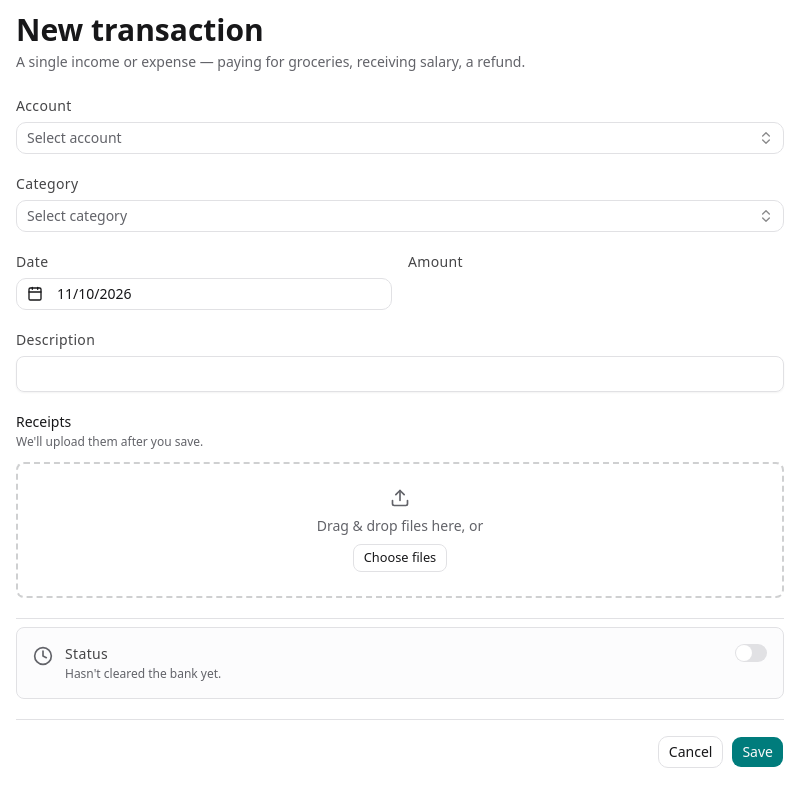
Test case: MovementCreate › Test 5: 422 response → field errors visible in form
The image size is (801, 785).
Expected: the button named "date" is shown, [16, 278, 392, 310]
Click the button "Save" at (758, 752), box [731, 736, 784, 768]
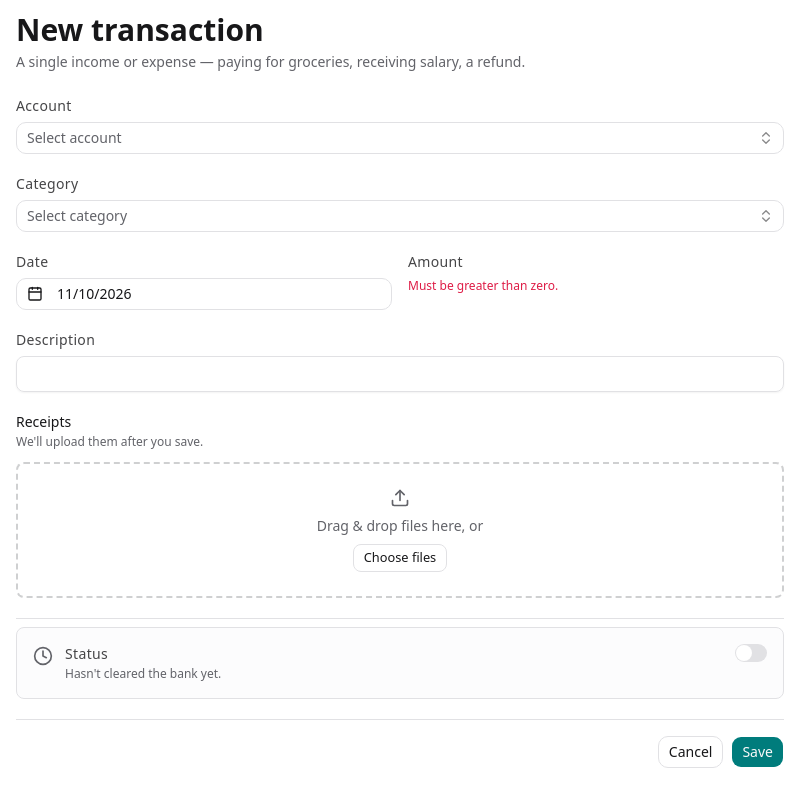
Expected: the text "Must be greater than zero." is shown, [408, 277, 558, 294]
